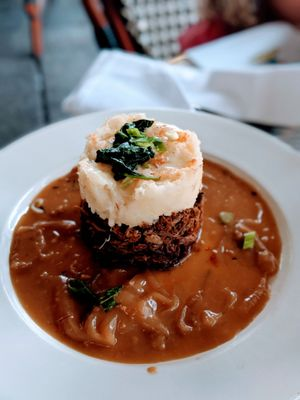sushi: (75, 113, 205, 269)
